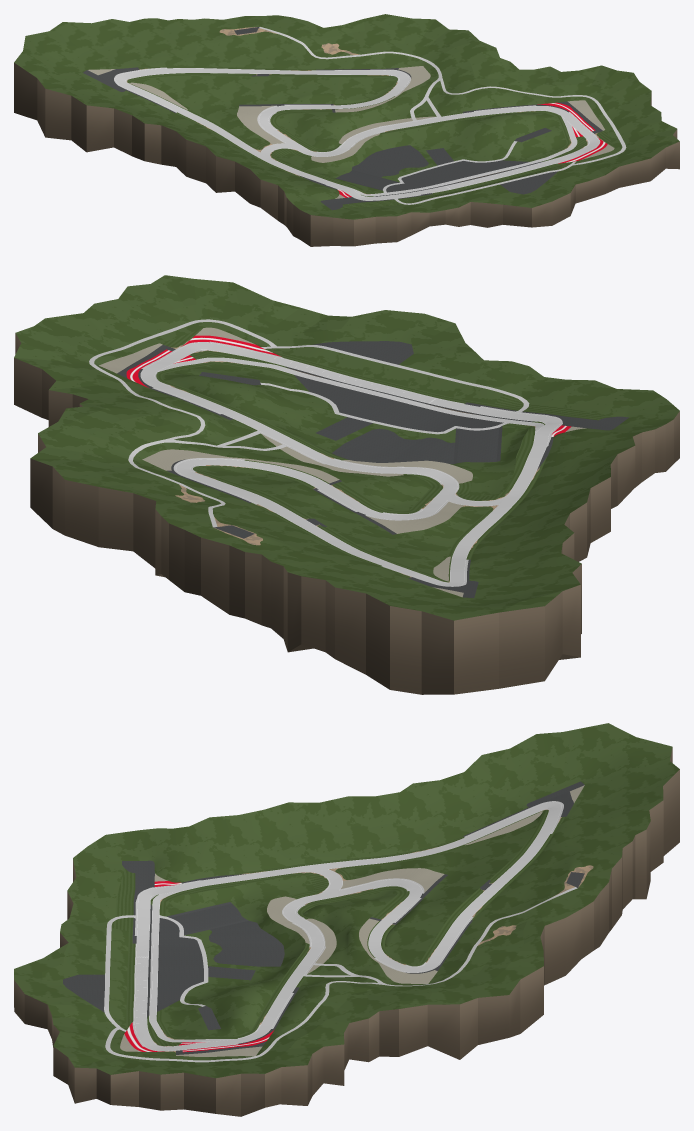
File: spielberg_terrain.FBX
The picture shows the model from 3 angles, top to bottom: view 1: azimuth 30°, elevation 25°; view 2: azimuth 150°, elevation 25°; view 3: azimuth 270°, elevation 25°; orthographic projection. The views are drawn at different scales.
Visible parts, largest first — view 1: grass_outside, bottom, grass_inside, TARMAC, dirty_tarmac, grass_cut, gravel_trap, sideroads, astroturf, pitlane, sand_patches, curbs (+2 smaller); view 2: grass_outside, bottom, grass_inside, dirty_tarmac, TARMAC, grass_cut, gravel_trap, sideroads, pitlane, astroturf, flag_tarmac, sand_patches (+2 smaller); view 3: grass_outside, bottom, grass_inside, dirty_tarmac, TARMAC, grass_cut, gravel_trap, sideroads, pitlane, astroturf, white_lines, sand_patches (+2 smaller).
Boxes of the visible parts, bbox=[...] form: grass_outside: bbox=[14, 14, 679, 219]; bottom: bbox=[14, 63, 679, 246]; grass_inside: bbox=[128, 76, 566, 196]; TARMAC: bbox=[115, 68, 599, 200]; dirty_tarmac: bbox=[83, 27, 602, 210]; grass_cut: bbox=[127, 66, 614, 208]; gravel_trap: bbox=[88, 66, 614, 198]; sideroads: bbox=[259, 27, 626, 204]; astroturf: bbox=[114, 67, 600, 200]; pitlane: bbox=[351, 116, 577, 196]; sand_patches: bbox=[126, 27, 603, 194]; curbs: bbox=[121, 68, 593, 200]; grass_outside: bbox=[14, 275, 679, 620]; bottom: bbox=[14, 333, 679, 694]; grass_inside: bbox=[162, 364, 545, 581]; dirty_tarmac: bbox=[117, 341, 628, 598]; TARMAC: bbox=[141, 342, 561, 586]; grass_cut: bbox=[156, 328, 615, 582]; gravel_trap: bbox=[99, 327, 586, 597]; sideroads: bbox=[89, 319, 529, 527]; pitlane: bbox=[157, 357, 543, 433]; astroturf: bbox=[141, 341, 562, 586]; flag_tarmac: bbox=[126, 335, 571, 436]; sand_patches: bbox=[169, 340, 539, 582]; grass_outside: bbox=[14, 723, 679, 1078]; bottom: bbox=[14, 747, 679, 1116]; grass_inside: bbox=[150, 811, 544, 1037]; dirty_tarmac: bbox=[63, 781, 584, 1054]; TARMAC: bbox=[134, 802, 561, 1050]; grass_cut: bbox=[111, 810, 566, 1055]; gravel_trap: bbox=[120, 785, 584, 1056]; sideroads: bbox=[104, 887, 577, 1062]; pitlane: bbox=[149, 891, 235, 1042]; astroturf: bbox=[132, 801, 563, 1051]; white_lines: bbox=[134, 802, 561, 1050]; sand_patches: bbox=[153, 809, 593, 1052].
Size of the model in its own units: 28195 by 4765 by 25703.
